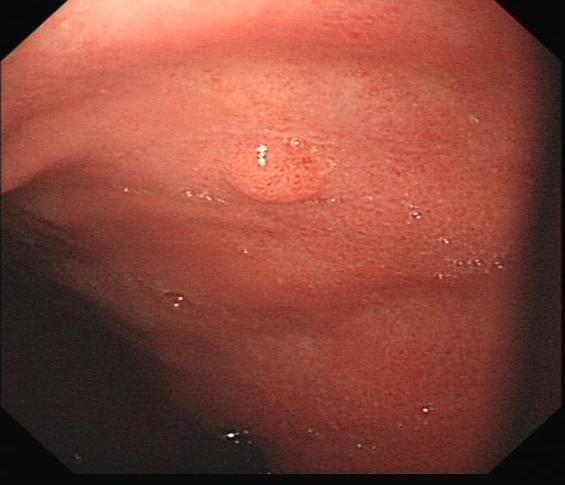Polyp: (218, 138, 322, 205)
